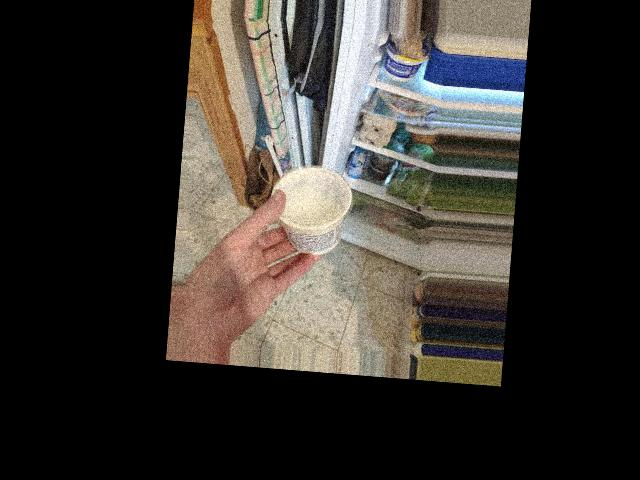cotage: (276, 167, 352, 256)
